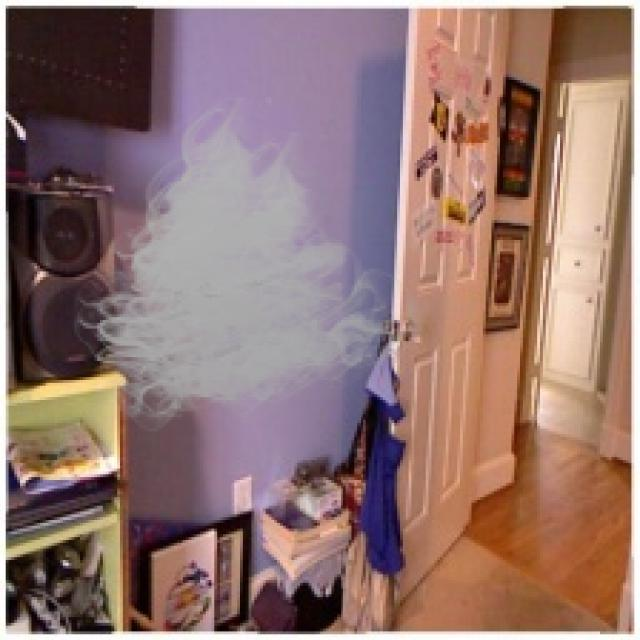Smoke: (62, 97, 428, 440)
